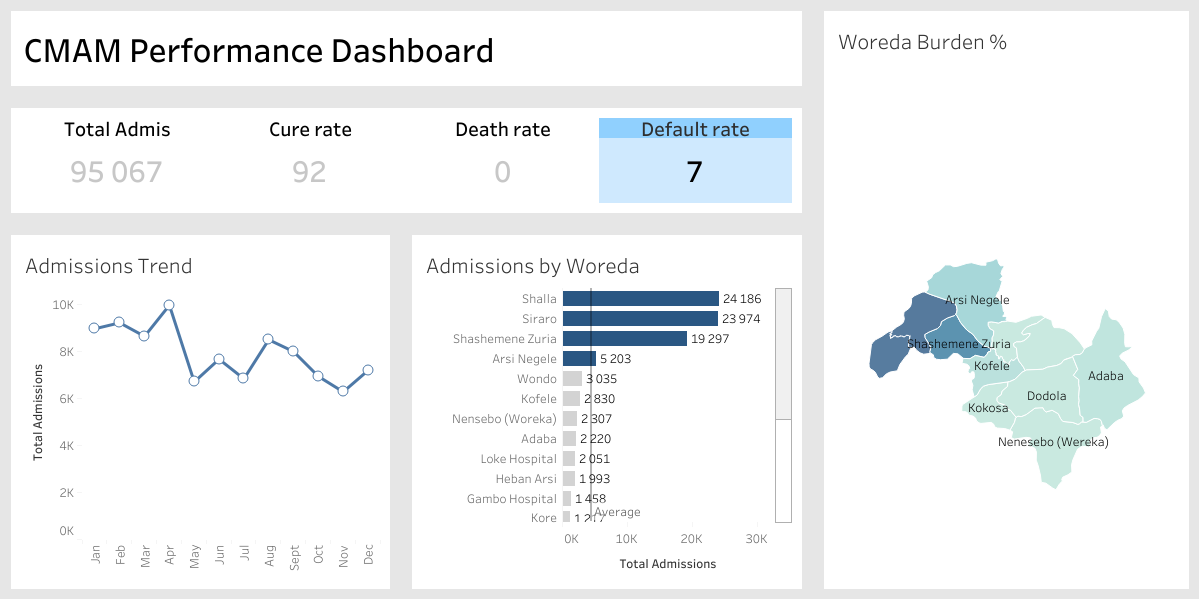

This screenshot's page, from the dashboard's own definition file:
{"tool":"tableau","page":{"name":"Dashboard 1","canvas":[1200,600],"ordinal":0},"visuals":[{"type":"text","box":[0,0,813,97]},{"type":"worksheet","title":"Geographic Burden Indicator","mark":"Automatic","box":[813,0,387,600]},{"type":"worksheet","title":"KPI","mark":"Automatic","box":[0,97,813,127]},{"type":"worksheet","title":"Admissions Trend","mark":"Line","rows":["Calculation_0014127435235880","Calculation_0014127435235880"],"cols":["Date"],"box":[0,224,400.8,376]},{"type":"worksheet","title":"Admissions by Woreda","mark":"Automatic","rows":["Woredaname"],"cols":["Calculation_0014127435235880"],"box":[400.8,224,412,376]}]}

Visuals, with their boxes in screenshot pixels (x1, y1, x2, y2), scaled from the page's 1200x600 canvas onto the 1199x599 screenshot:
text: 0:0:812:97
"Geographic Burden Indicator" worksheet: 812:0:1198:598
"KPI" worksheet: 0:97:812:224
"Admissions Trend" worksheet (Line marks): 0:224:400:598
"Admissions by Woreda" worksheet: 400:224:812:598
